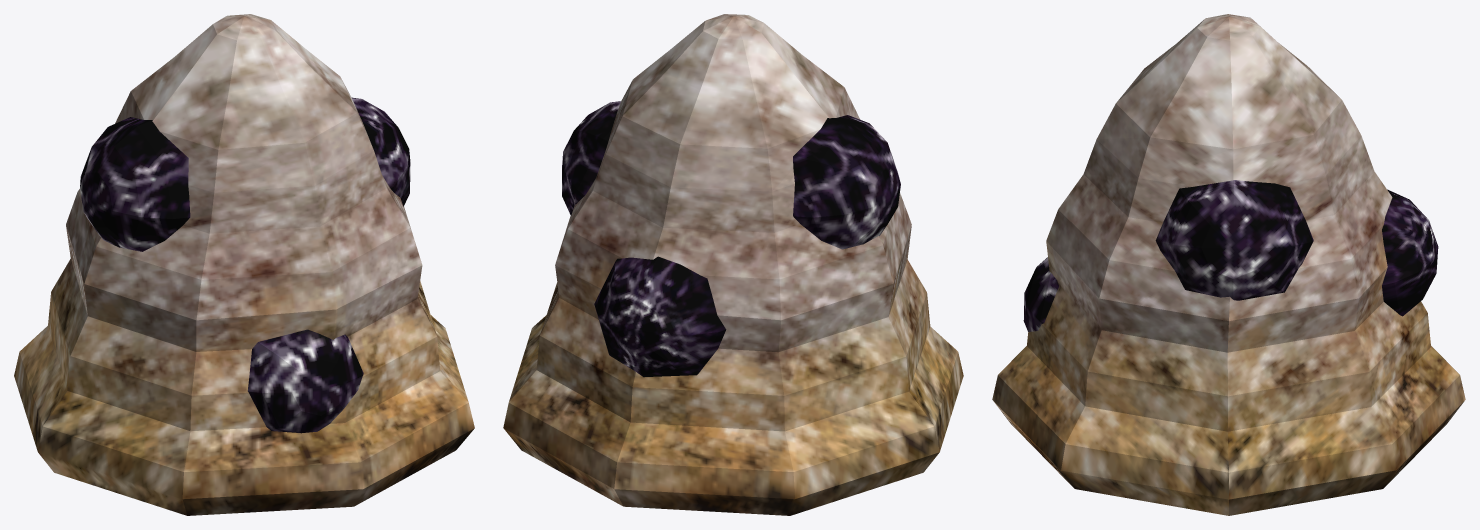
The model's file is GiggiEgg.glb.
3 renders of one model, left to right at view 1: azimuth 30°, elevation 25°; view 2: azimuth 150°, elevation 25°; view 3: azimuth 270°, elevation 25°, orthographic.
Parts seen in each view (by area): view 1: m035_BM_02_Mesh.002, m035_BM_02.001_Mesh.004, m035_BM_02.002_Mesh.006; view 2: m035_BM_02_Mesh.002, m035_BM_02.001_Mesh.004, m035_BM_02.003_Mesh.008; view 3: m035_BM_02_Mesh.002, m035_BM_02.001_Mesh.004, m035_BM_02.003_Mesh.008, m035_BM_02.002_Mesh.006.
Part boxes in pixels (x1,y1,x2,y2): m035_BM_02_Mesh.002: (14,14,474,515); m035_BM_02.001_Mesh.004: (80,97,410,251); m035_BM_02.002_Mesh.006: (247,329,363,433); m035_BM_02_Mesh.002: (503,14,963,515); m035_BM_02.001_Mesh.004: (562,101,900,249); m035_BM_02.003_Mesh.008: (594,256,726,377); m035_BM_02_Mesh.002: (992,14,1465,515); m035_BM_02.001_Mesh.004: (1155,180,1313,300); m035_BM_02.003_Mesh.008: (1382,189,1438,316); m035_BM_02.002_Mesh.006: (1023,257,1058,331).
Bounding box in the file's own units: 1.64 × 1.56 × 1.64.
2 materials, 2 textured.
